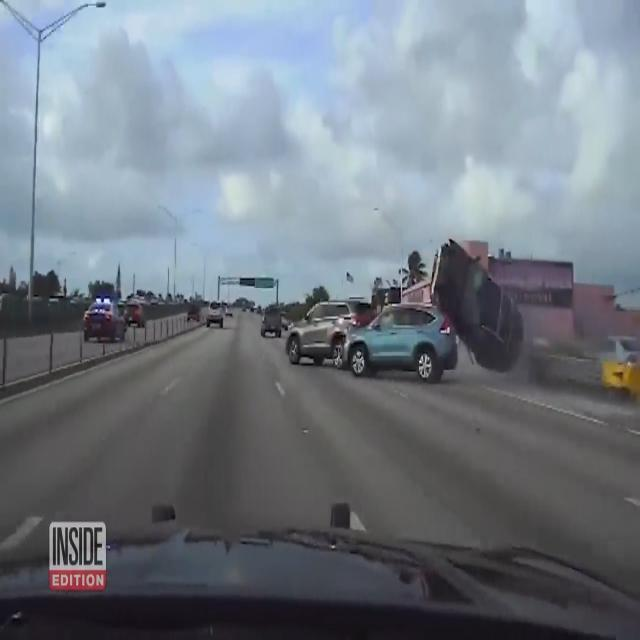accident: (423, 238, 541, 377)
